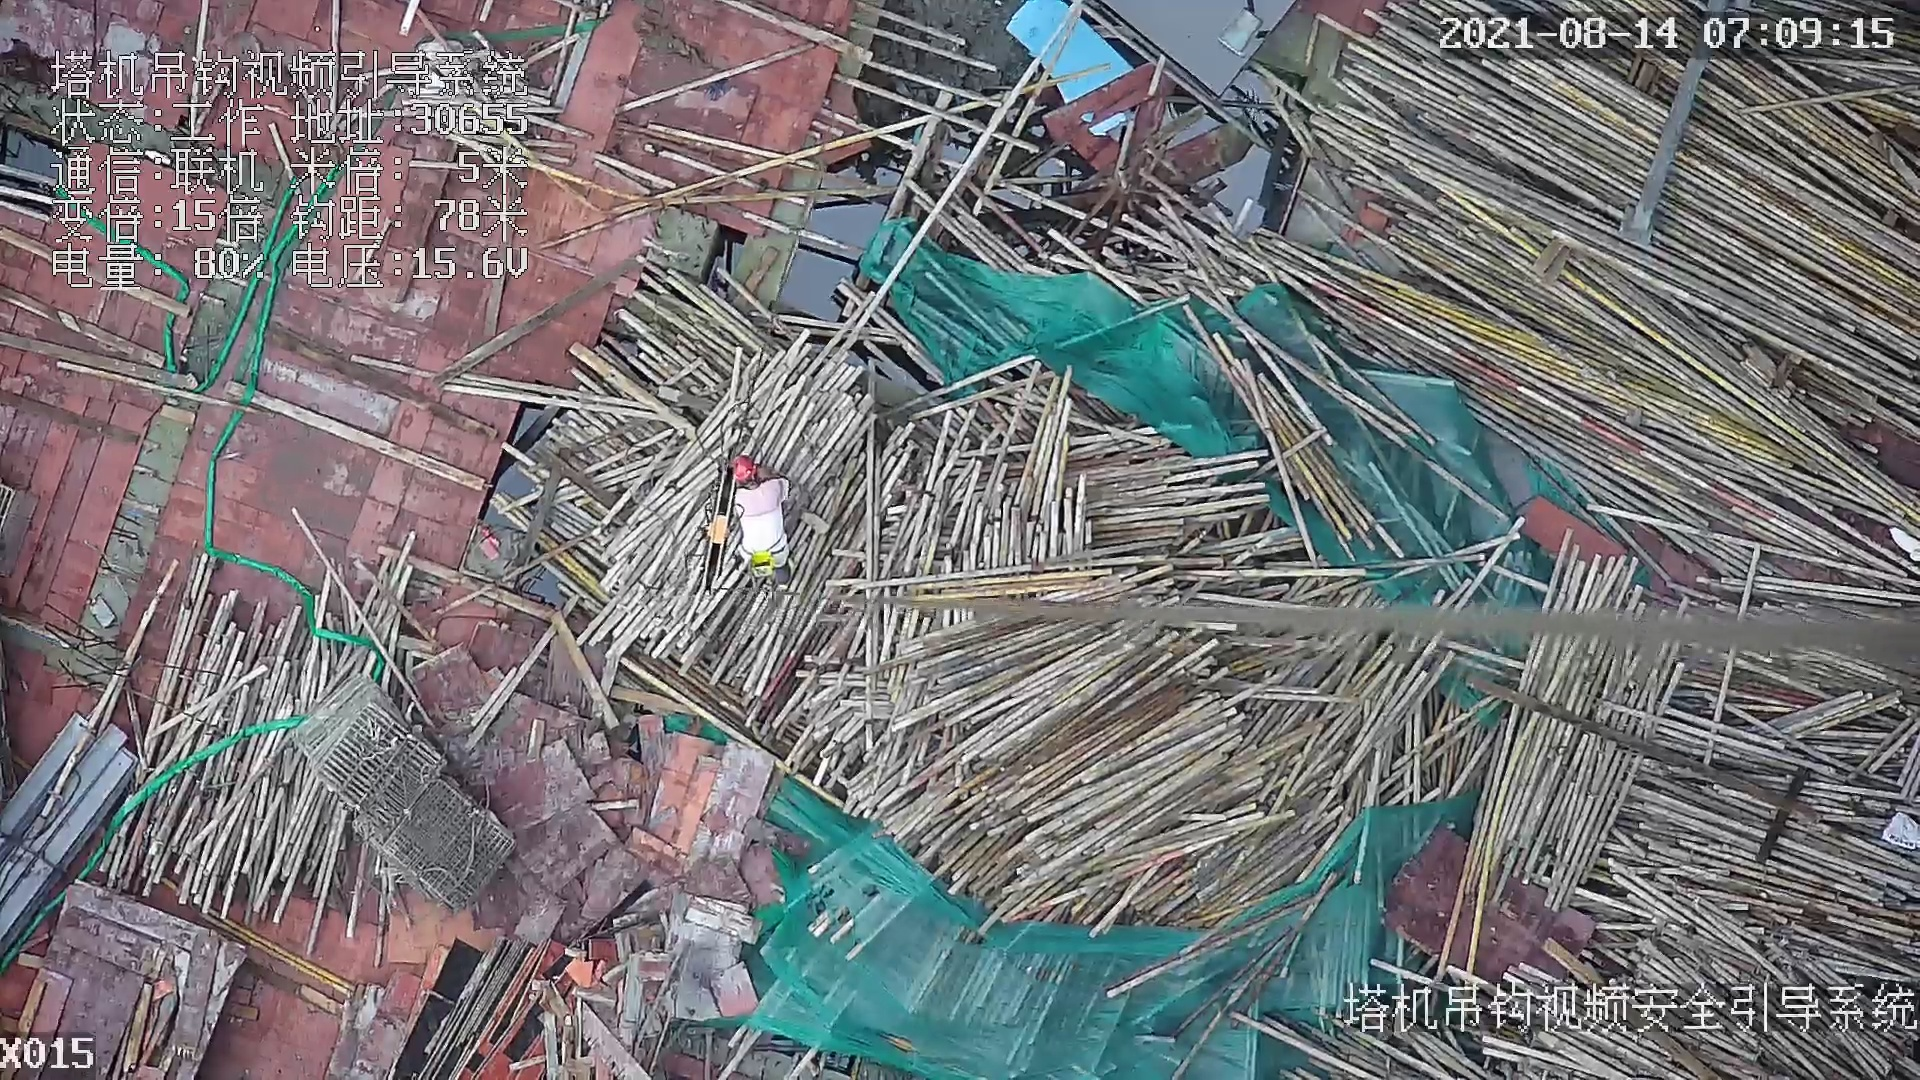helmet: (734, 455, 757, 486)
hook: (700, 460, 745, 599)
person: (720, 453, 805, 586)
